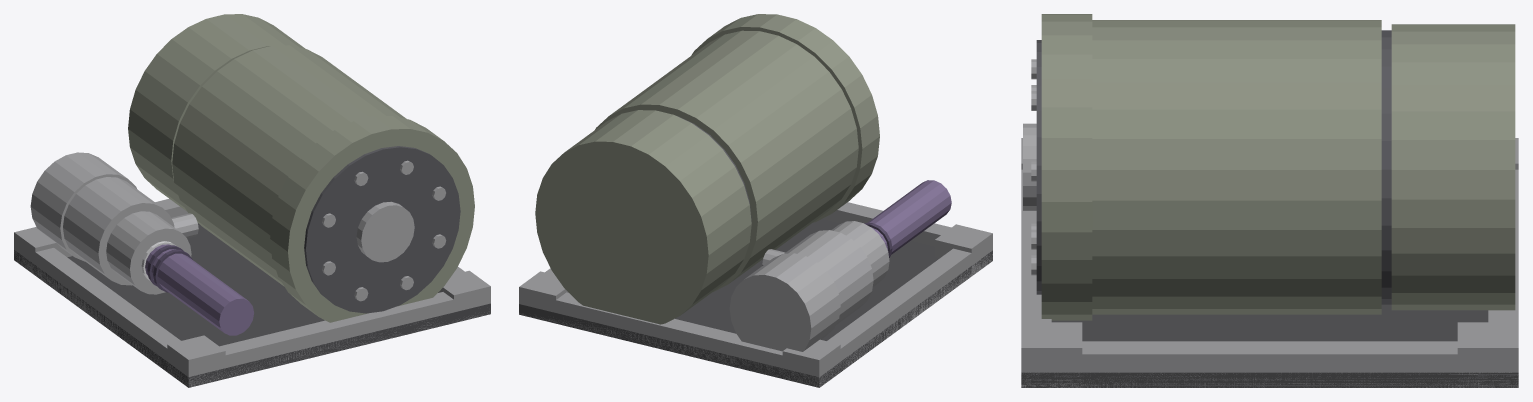
The model's file is vge_industrial_astrofuel_generator.obj.
The picture shows the model from 3 angles, left to right: view 1: azimuth 30°, elevation 25°; view 2: azimuth 150°, elevation 25°; view 3: azimuth 270°, elevation 25°; orthographic projection. The views are drawn at different scales.
Parts seen in each view (by area): view 1: vge_industrial_astrofuel_generator_11, vge_industrial_astrofuel_generator_13, vge_industrial_astrofuel_generator_0, vge_industrial_astrofuel_generator_12, vge_industrial_astrofuel_generator_9, vge_industrial_astrofuel_generator_1, vge_industrial_astrofuel_generator_3, vge_industrial_astrofuel_generator_25, vge_industrial_astrofuel_generator_30, vge_industrial_astrofuel_generator_23, vge_industrial_astrofuel_generator_27, vge_industrial_astrofuel_generator_22 (+5 smaller); view 2: vge_industrial_astrofuel_generator_9, vge_industrial_astrofuel_generator_11, vge_industrial_astrofuel_generator_0, vge_industrial_astrofuel_generator_23, vge_industrial_astrofuel_generator_2, vge_industrial_astrofuel_generator_12, vge_industrial_astrofuel_generator_3, vge_industrial_astrofuel_generator_25, vge_industrial_astrofuel_generator_30, vge_industrial_astrofuel_generator_5, vge_industrial_astrofuel_generator_27, vge_industrial_astrofuel_generator_1 (+2 smaller); view 3: vge_industrial_astrofuel_generator_11, vge_industrial_astrofuel_generator_9, vge_industrial_astrofuel_generator_0, vge_industrial_astrofuel_generator_12, vge_industrial_astrofuel_generator_4, vge_industrial_astrofuel_generator_10, vge_industrial_astrofuel_generator_7, vge_industrial_astrofuel_generator_8, vge_industrial_astrofuel_generator_1, vge_industrial_astrofuel_generator_2, vge_industrial_astrofuel_generator_13, vge_industrial_astrofuel_generator_22.
Boxes of the visible parts, x1=… form: vge_industrial_astrofuel_generator_11: x1=172, y1=45, x2=406, y2=286; vge_industrial_astrofuel_generator_13: x1=304, y1=146, x2=460, y2=313; vge_industrial_astrofuel_generator_0: x1=14, y1=223, x2=490, y2=387; vge_industrial_astrofuel_generator_12: x1=270, y1=116, x2=474, y2=322; vge_industrial_astrofuel_generator_9: x1=128, y1=14, x2=305, y2=211; vge_industrial_astrofuel_generator_1: x1=178, y1=292, x2=490, y2=387; vge_industrial_astrofuel_generator_3: x1=24, y1=244, x2=180, y2=379; vge_industrial_astrofuel_generator_25: x1=63, y1=177, x2=174, y2=285; vge_industrial_astrofuel_generator_30: x1=145, y1=244, x2=253, y2=335; vge_industrial_astrofuel_generator_23: x1=30, y1=152, x2=136, y2=261; vge_industrial_astrofuel_generator_27: x1=106, y1=211, x2=191, y2=294; vge_industrial_astrofuel_generator_22: x1=356, y1=201, x2=414, y2=262; vge_industrial_astrofuel_generator_9: x1=535, y1=110, x2=751, y2=324; vge_industrial_astrofuel_generator_11: x1=595, y1=30, x2=858, y2=291; vge_industrial_astrofuel_generator_0: x1=519, y1=219, x2=992, y2=387; vge_industrial_astrofuel_generator_23: x1=729, y1=253, x2=840, y2=351; vge_industrial_astrofuel_generator_2: x1=520, y1=292, x2=829, y2=387; vge_industrial_astrofuel_generator_12: x1=691, y1=14, x2=879, y2=222; vge_industrial_astrofuel_generator_3: x1=827, y1=246, x2=982, y2=379; vge_industrial_astrofuel_generator_25: x1=784, y1=230, x2=873, y2=324; vge_industrial_astrofuel_generator_30: x1=867, y1=180, x2=951, y2=254; vge_industrial_astrofuel_generator_5: x1=935, y1=224, x2=992, y2=275; vge_industrial_astrofuel_generator_27: x1=831, y1=221, x2=889, y2=286; vge_industrial_astrofuel_generator_1: x1=822, y1=202, x2=992, y2=267; vge_industrial_astrofuel_generator_11: x1=1092, y1=20, x2=1381, y2=314; vge_industrial_astrofuel_generator_9: x1=1391, y1=24, x2=1515, y2=310; vge_industrial_astrofuel_generator_0: x1=1021, y1=304, x2=1518, y2=387; vge_industrial_astrofuel_generator_12: x1=1041, y1=14, x2=1092, y2=320; vge_industrial_astrofuel_generator_4: x1=1051, y1=341, x2=1488, y2=387; vge_industrial_astrofuel_generator_10: x1=1381, y1=30, x2=1391, y2=304; vge_industrial_astrofuel_generator_7: x1=1021, y1=322, x2=1082, y2=387; vge_industrial_astrofuel_generator_8: x1=1457, y1=322, x2=1518, y2=387; vge_industrial_astrofuel_generator_1: x1=1021, y1=169, x2=1051, y2=387; vge_industrial_astrofuel_generator_2: x1=1488, y1=169, x2=1518, y2=387; vge_industrial_astrofuel_generator_13: x1=1036, y1=40, x2=1041, y2=294; vge_industrial_astrofuel_generator_22: x1=1023, y1=123, x2=1036, y2=210.
Size of the model in its own units: 2.47 by 1.58 by 2.47.
